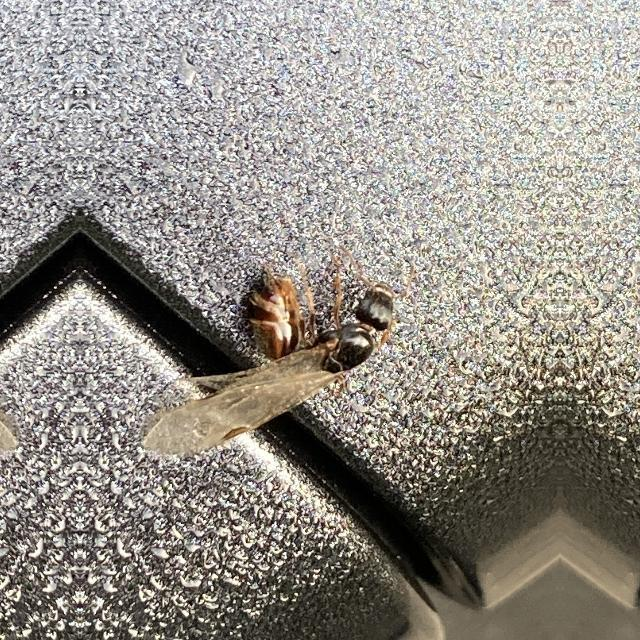Tetramorium: (213, 264, 447, 394)
